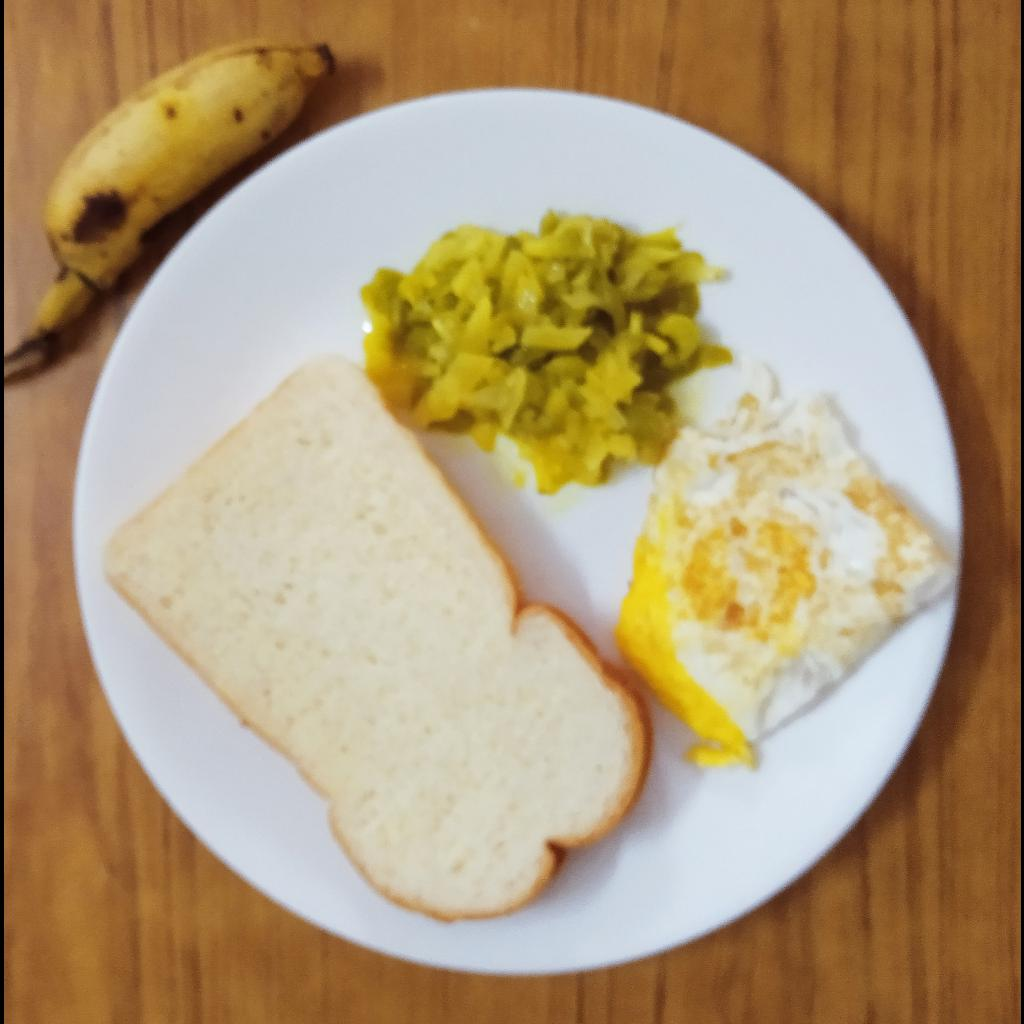banana: (32, 28, 338, 344)
bread: (103, 350, 650, 928)
egg-poached: (609, 357, 963, 765)
vegetable: (355, 209, 734, 499)
